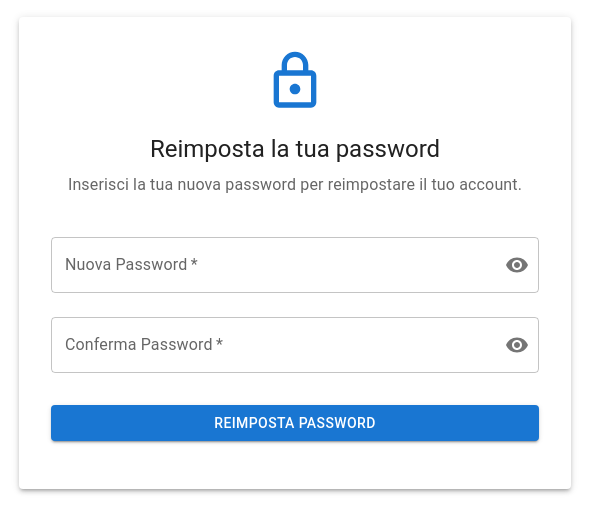
Test: ResetPassword component › submits new password successfully
The image size is (591, 511).
Expected: the heading "Reimposta la tua password" is shown, top-left (150, 134), bottom-right (440, 162)
Step 1. Type "pass1234" into the password field labelled "Nuova Password *" → (270, 265), box top-left (51, 237), bottom-right (489, 293)
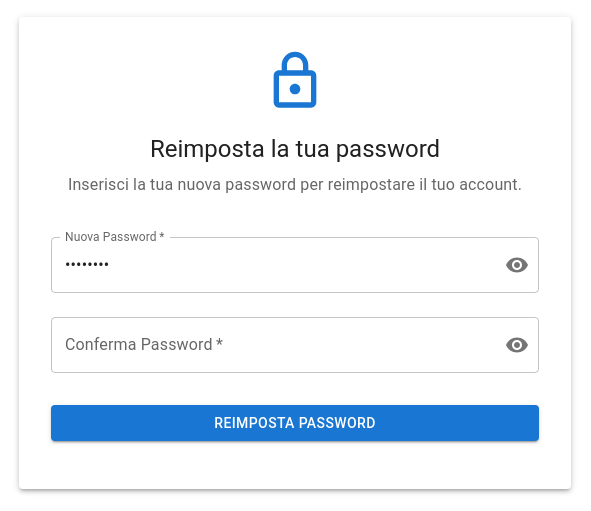
Step 2. Type "pass1234" into the password field labelled "Conferma Password *" → (270, 345), box top-left (51, 317), bottom-right (489, 373)
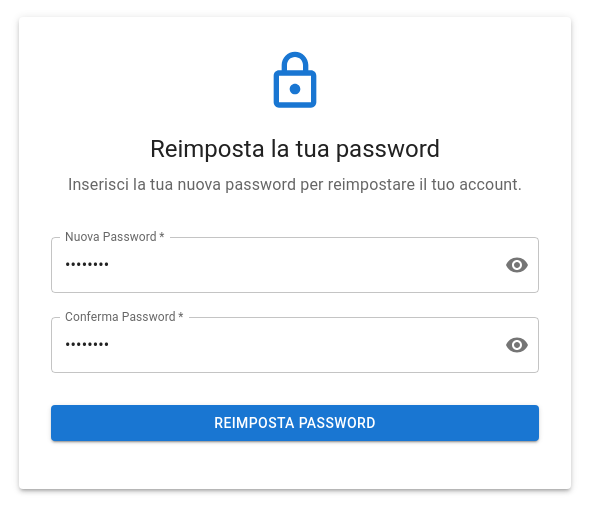
Step 3. Click the button "Reimposta Password" → click(295, 423), box top-left (51, 405), bottom-right (539, 442)
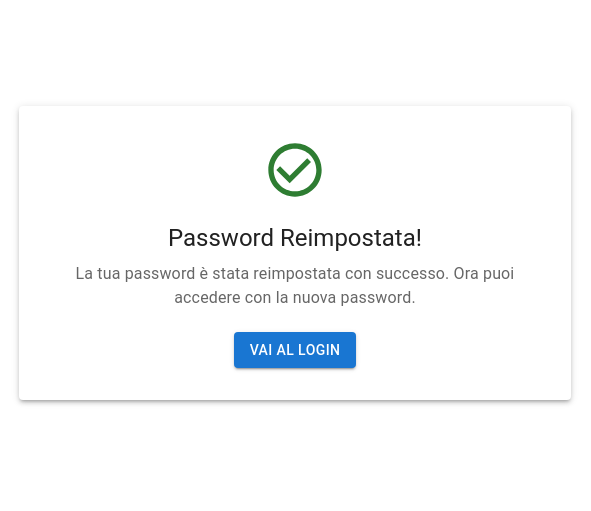
Expected: the heading "Password Reimpostata!" is shown, top-left (168, 224), bottom-right (422, 252)
